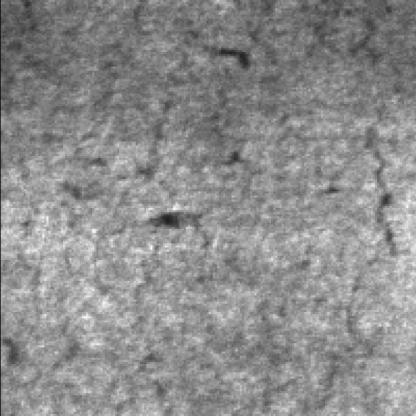crazing: (239, 0, 395, 270), (62, 10, 256, 184)
